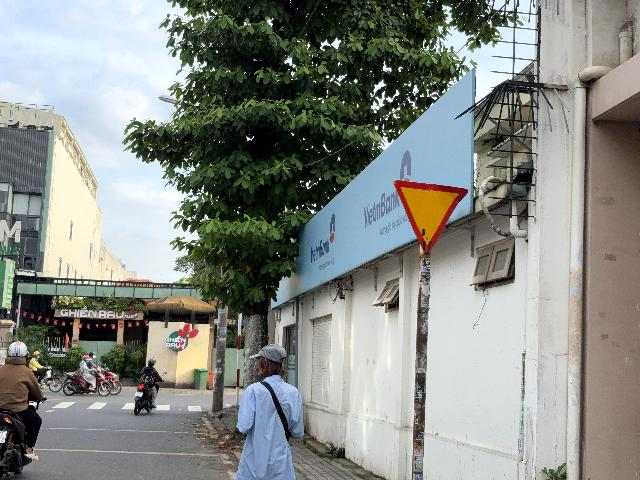giao-nhau-voi-duong-uu-tien: (392, 180, 469, 253)
